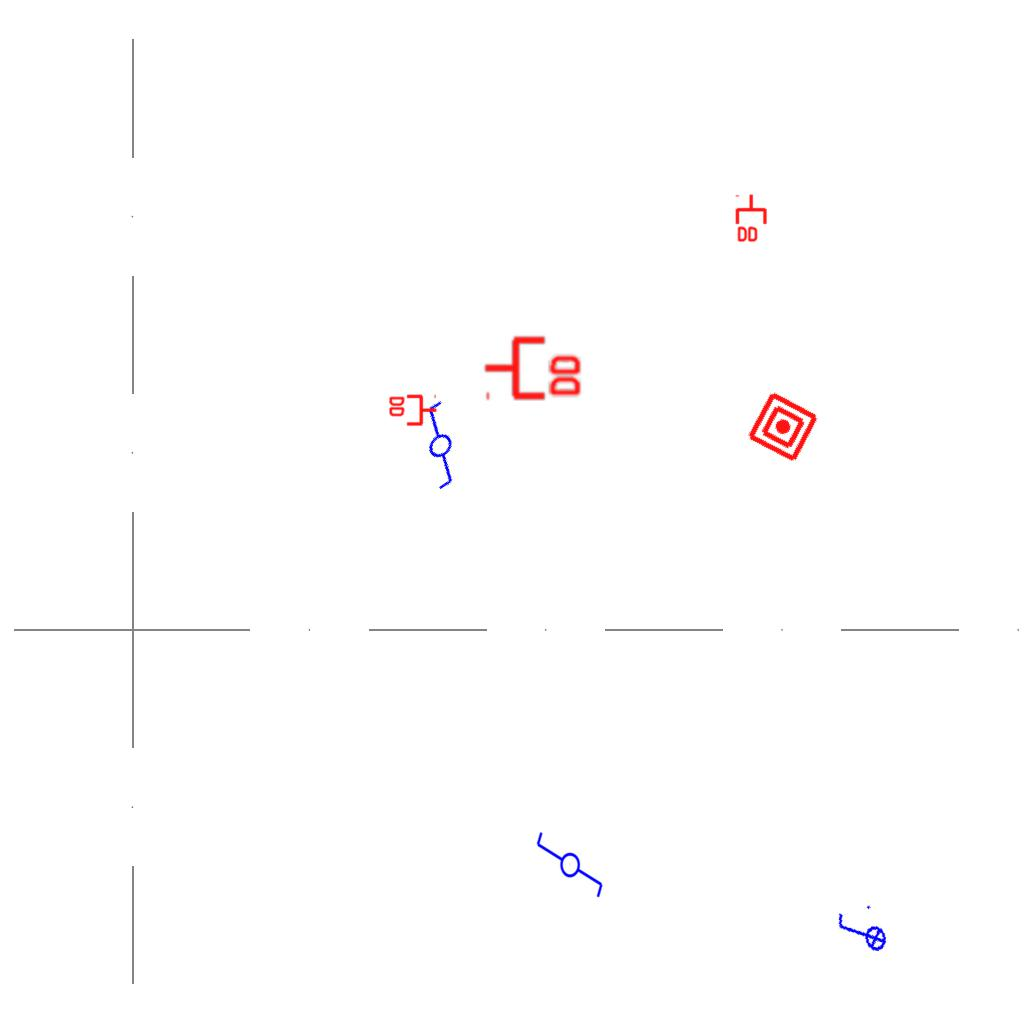Ausschalter_beleuchtet: (831, 900, 891, 966)
Datenanschluss_zweifach: (482, 332, 585, 401), (735, 193, 769, 244), (387, 394, 438, 428)
NAM-Nichtautomatischer_Melder: (745, 389, 821, 465)
Wechselschalter: (384, 394, 490, 502), (533, 830, 605, 908)
